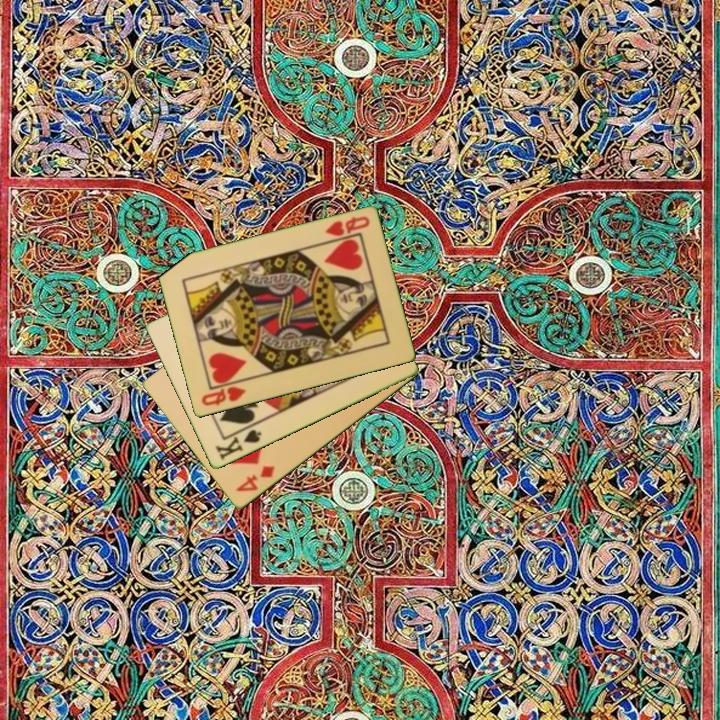4d: (232, 462, 278, 495)
Ks: (212, 421, 264, 463)
Qh: (321, 213, 372, 240), (198, 383, 249, 409)
